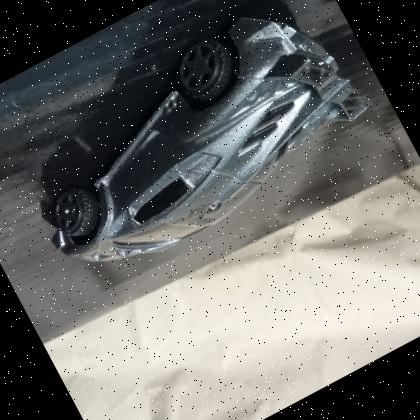Car: (48, 14, 367, 261)
